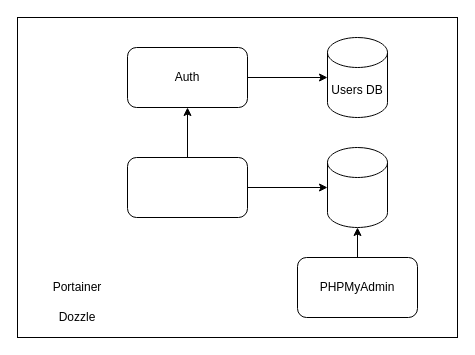
Image size: 475x355. Some labels were removed from this diagram. Each missing label, with the box of its shape:
API: (126, 156, 248, 218)
DB: (326, 146, 388, 228)
